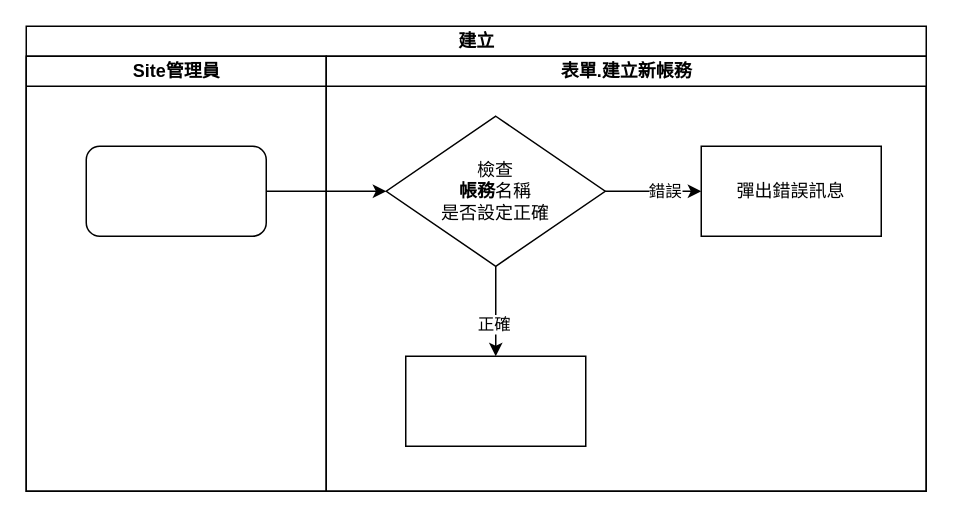
Some shapes in this 953 by 518 pixel diagram are drawn without their labels. The centre of each missing label's shape, as x and y in pixels:
"建立 帳務 資料" belongs at (x=495, y=400).
"點擊按鈕.建立" belongs at (x=175, y=190).
